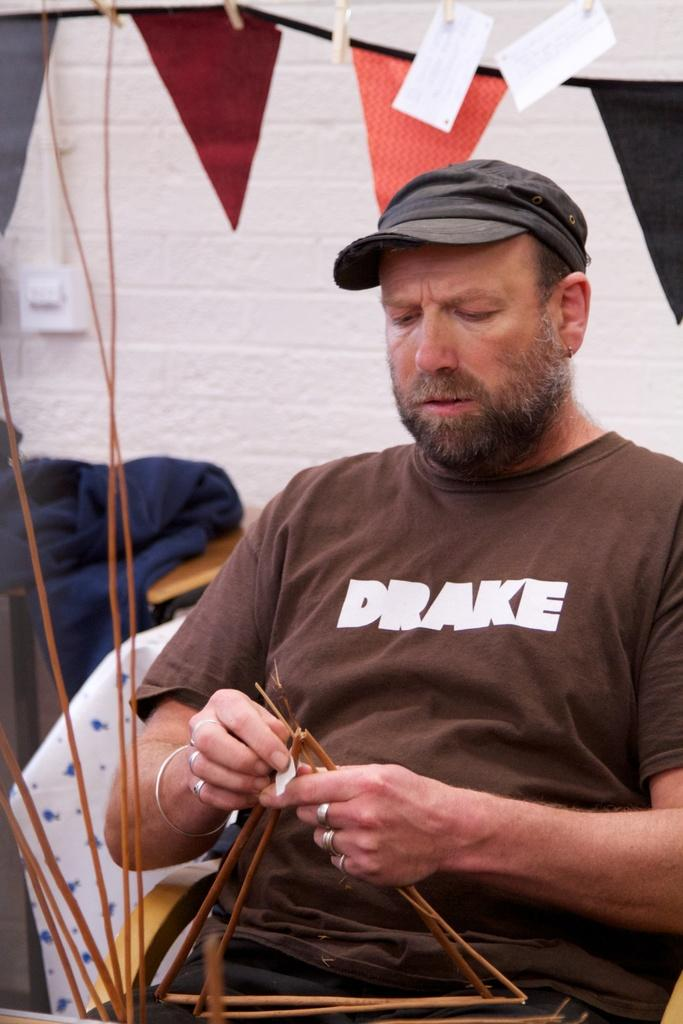Hat: (330, 158, 592, 291)
